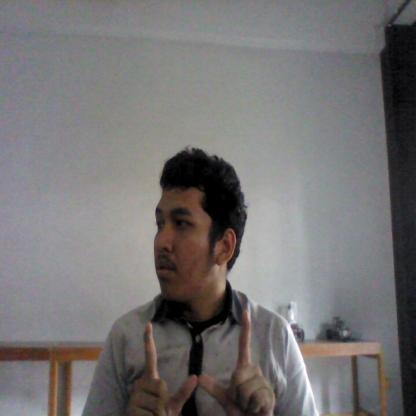W: (127, 306, 276, 416)
